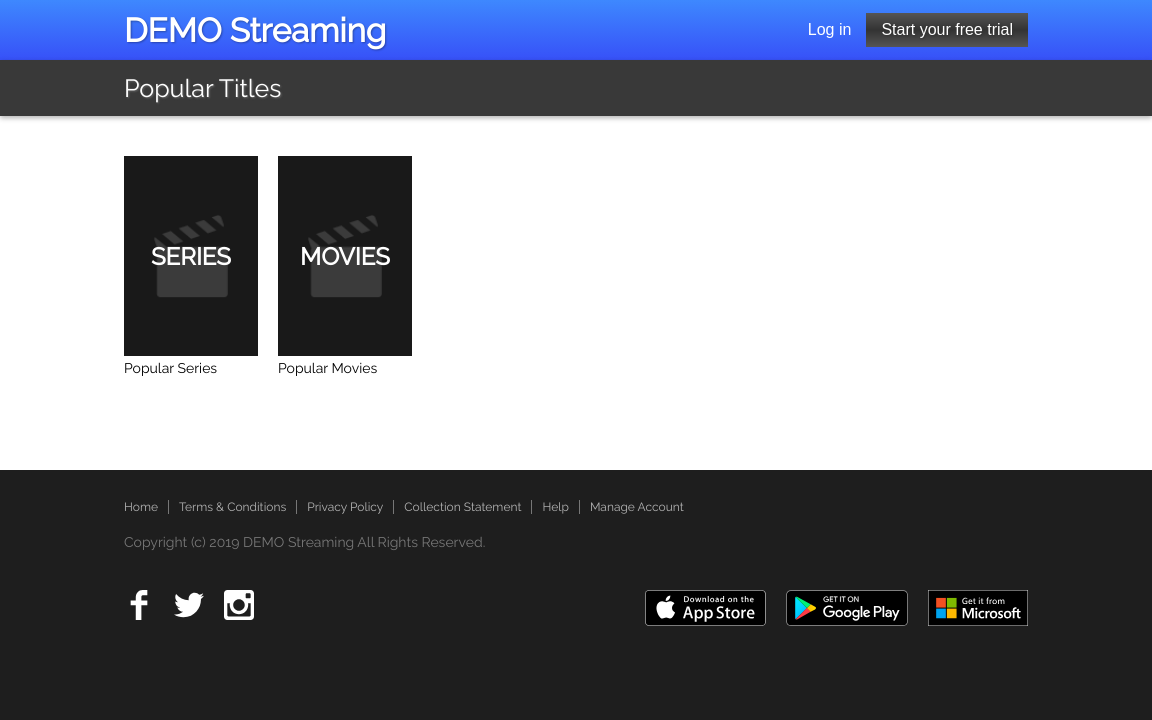
Authentication › Log in
Click the button "Log in" at (830, 30), box [793,13,867,47]
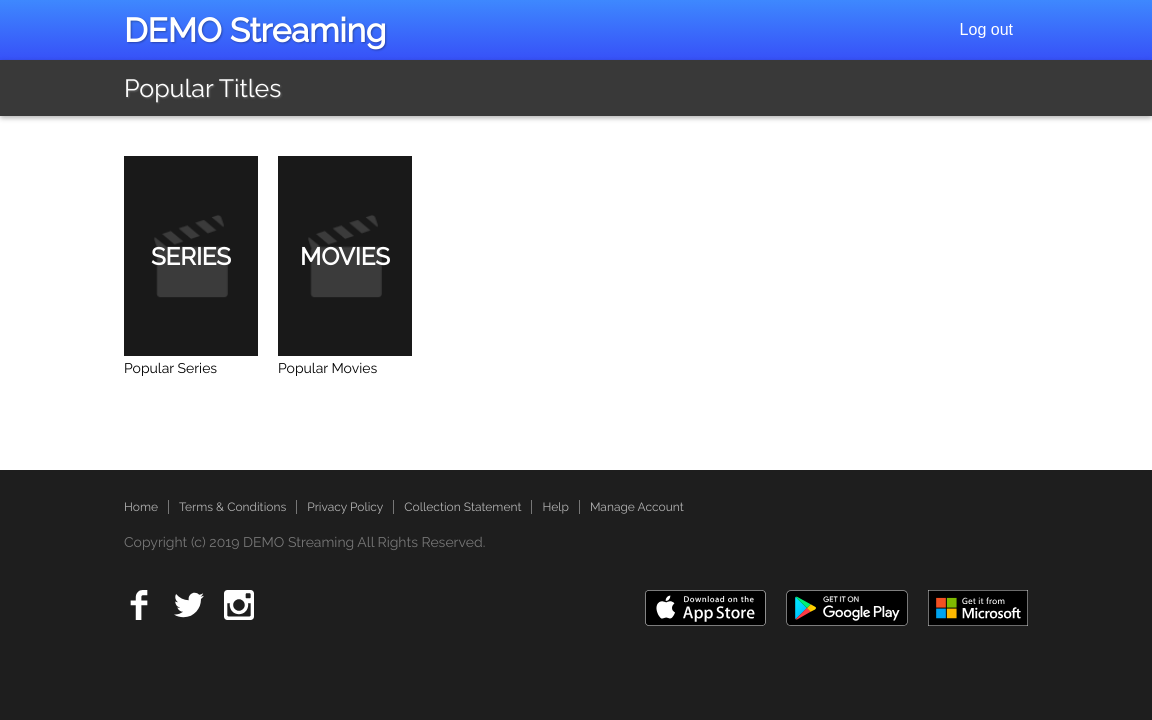
Check: the button "Log out" is shown, box [945,13,1028,47]
